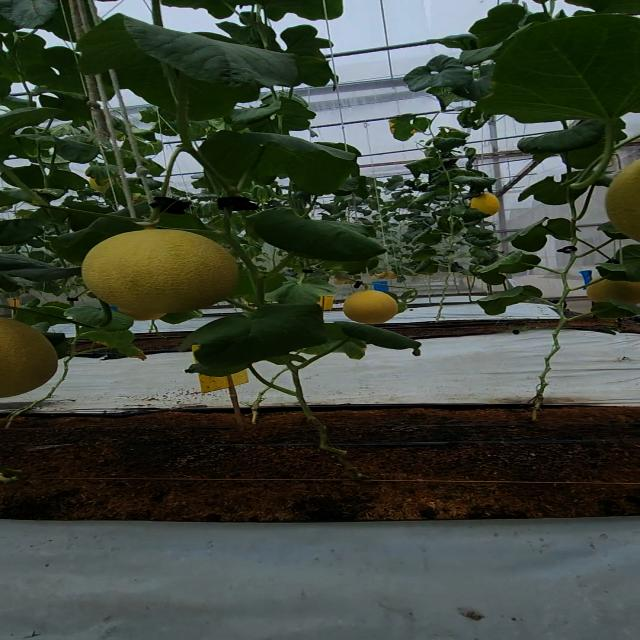Melon: (72, 224, 247, 326), (0, 314, 67, 402), (598, 159, 640, 248)
